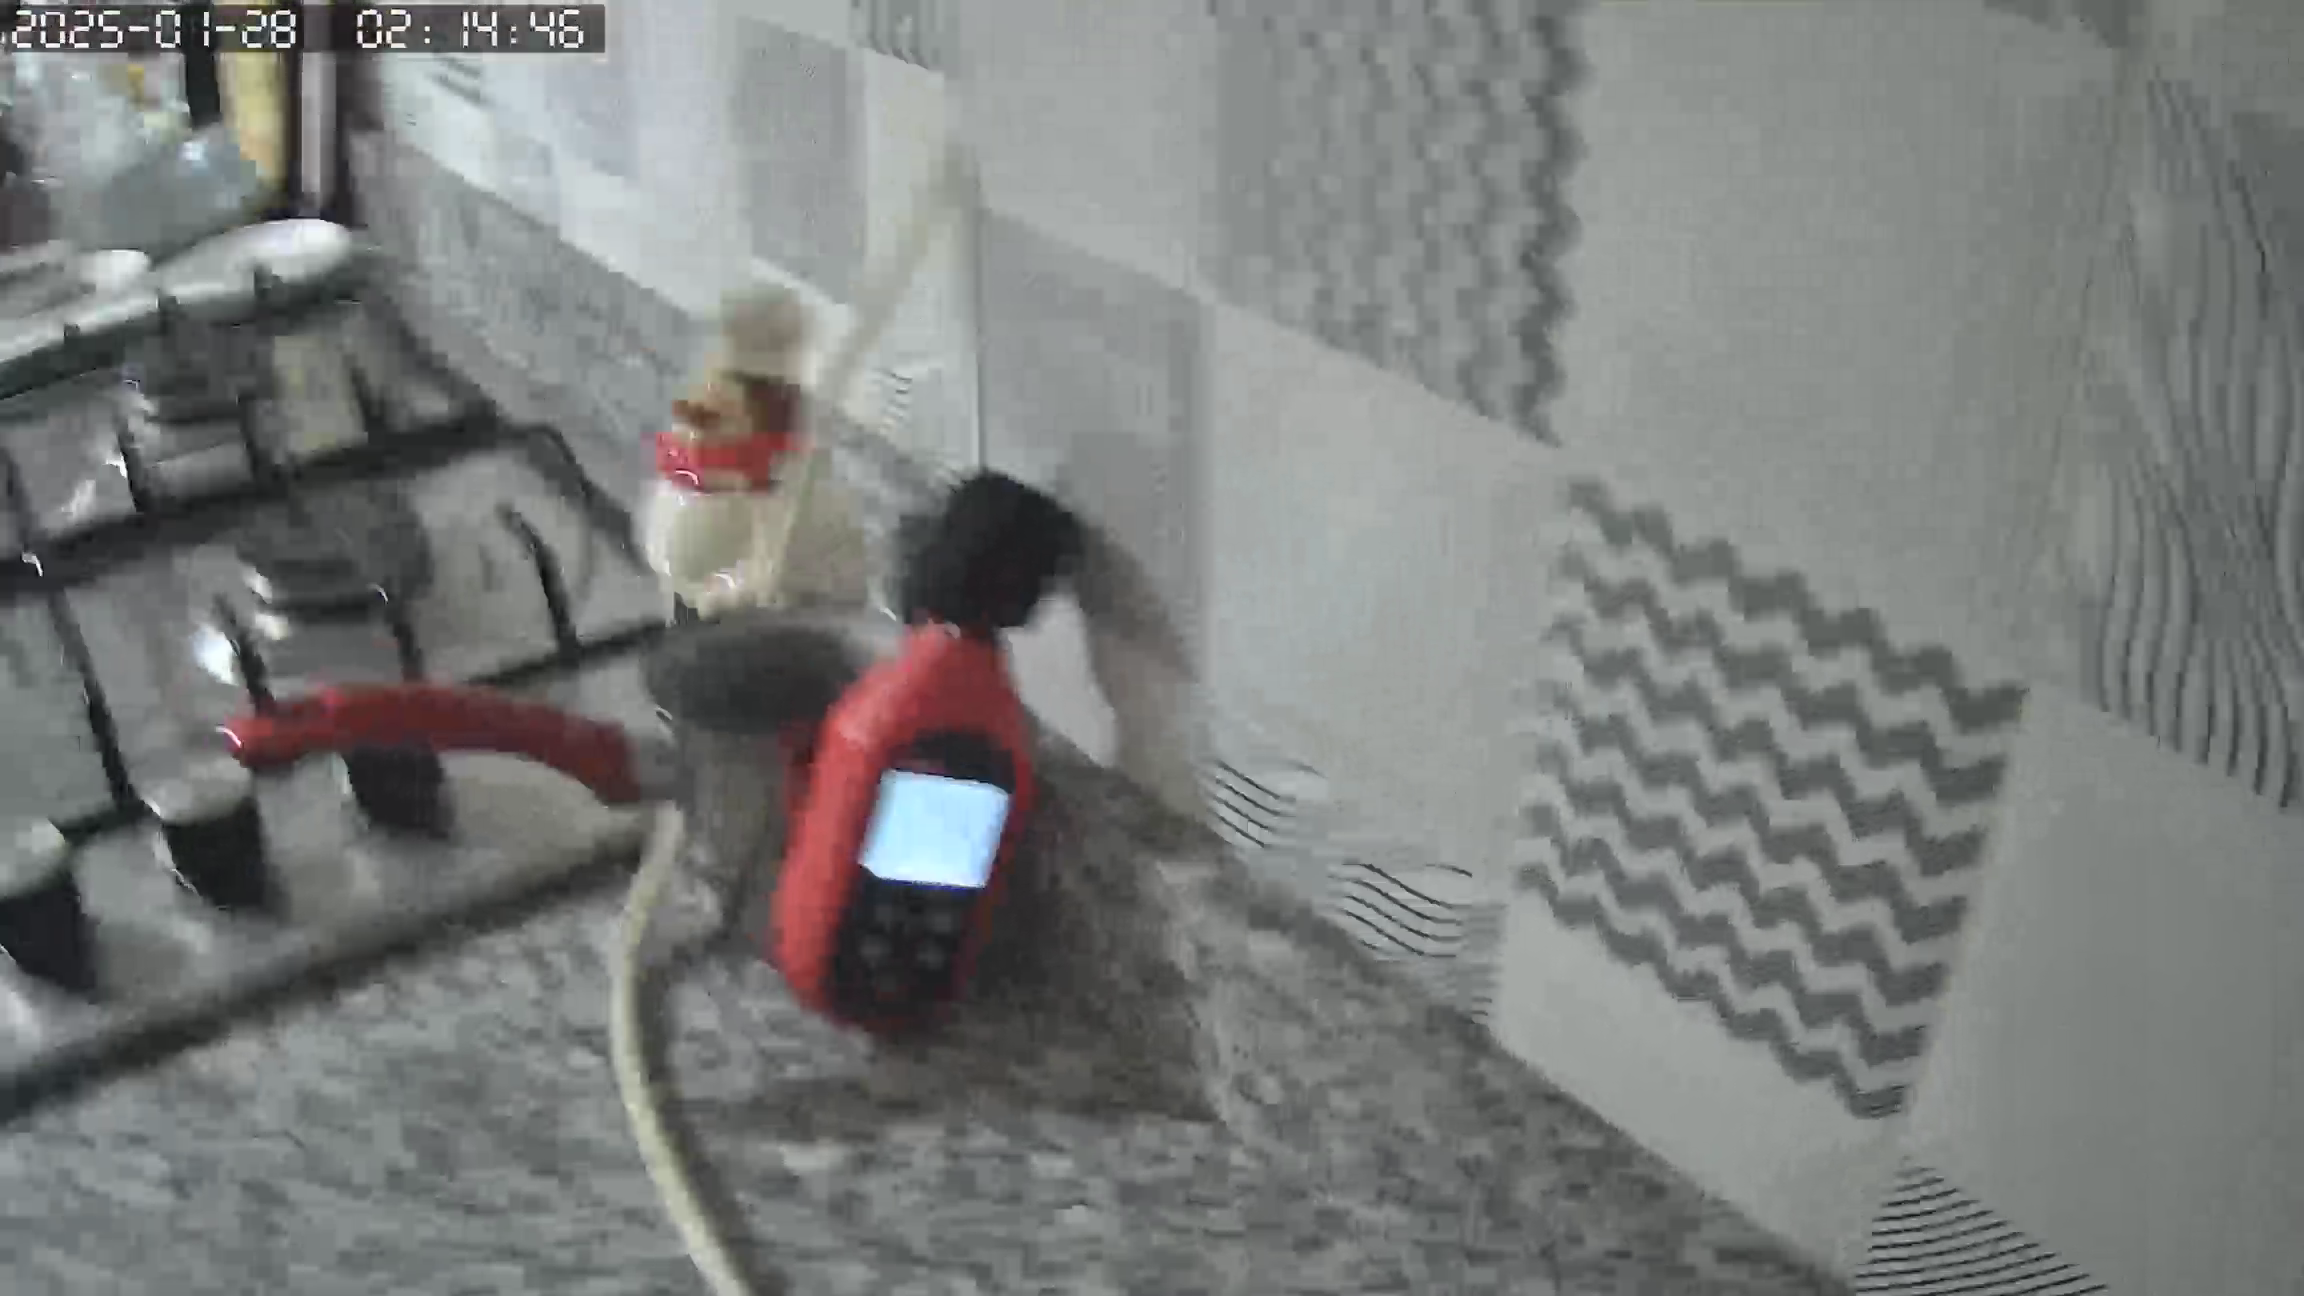screen: (859, 767, 1013, 889)
